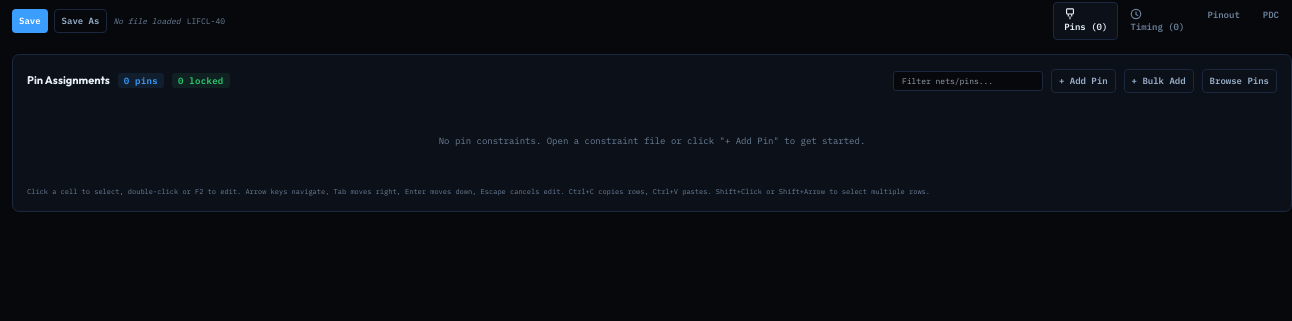
Test case: ConstraintEditor › successfully adds a pin with both net and pin filled
The image size is (1292, 321).
Step 1. Click the button "+ Add Pin" → (1083, 80), box [1051,68,1116,92]
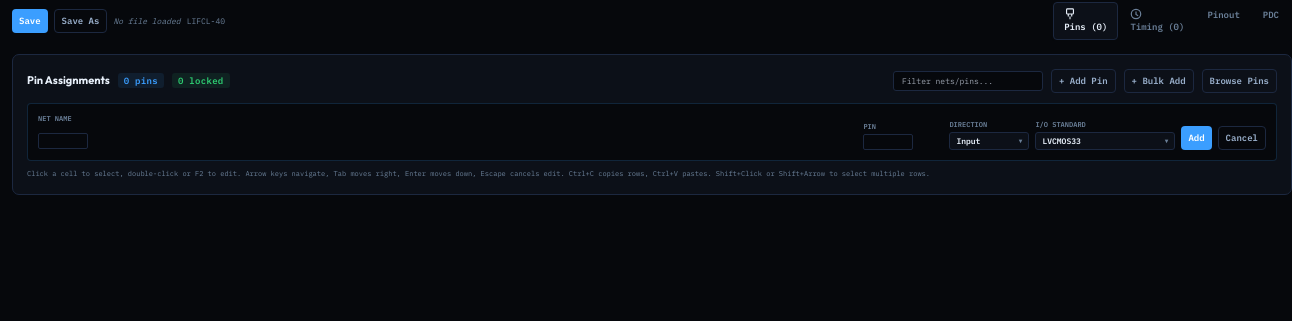
Step 2. Type "clk" into the field below "NET NAME" → (63, 141), box [38,133,88,149]
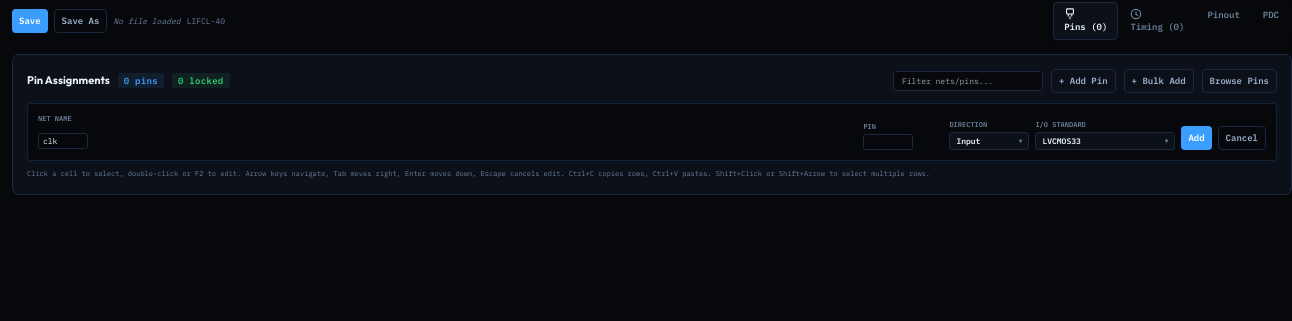
Step 3. Type "A5" into the 3rd field → (888, 142), box [863,134,913,150]
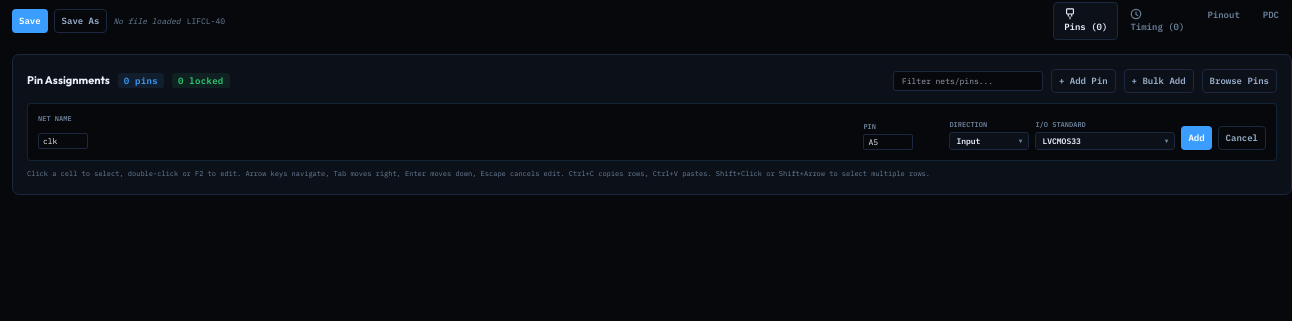
Step 4. Click the button "Add" → (1196, 138), box [1181,126,1212,150]
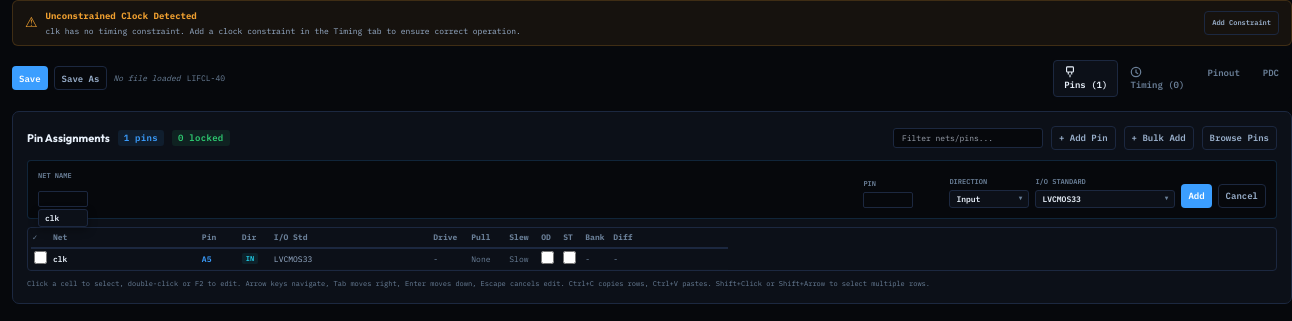
Result: the text "clk" is shown at [45,212,59,222]
Result: the text "A5" is shown at [199,248,239,269]
